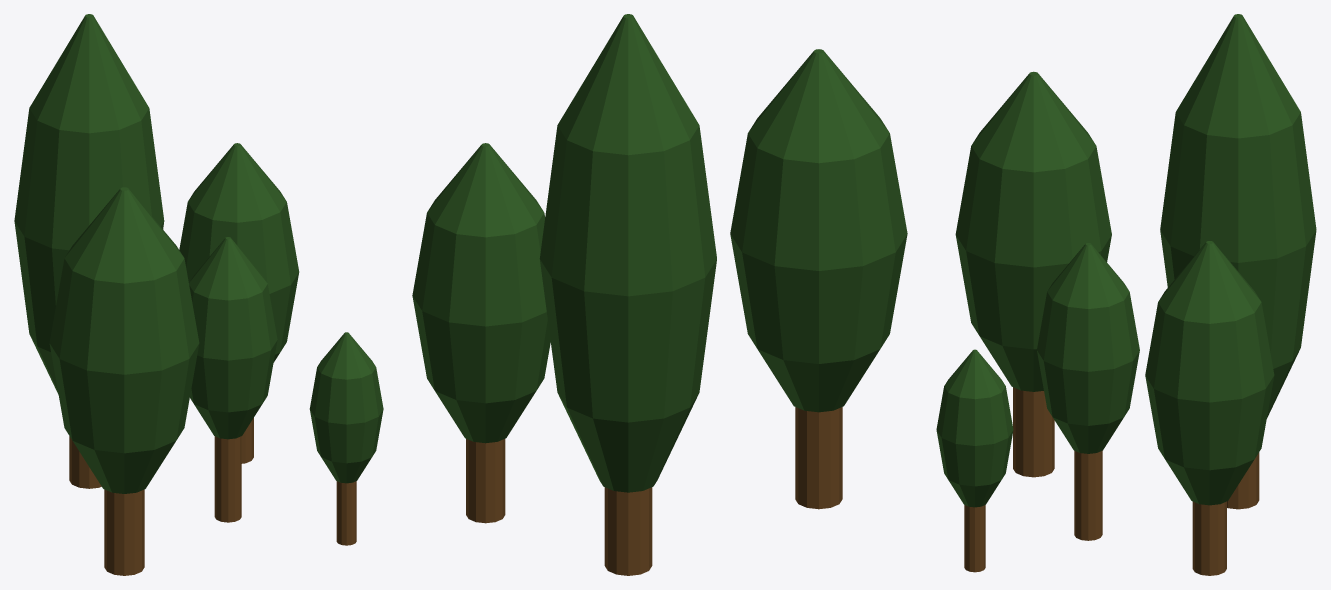
The model's file is Forest.glb.
The picture shows the model from 3 angles, left to right: view 1: azimuth 30°, elevation 25°; view 2: azimuth 150°, elevation 25°; view 3: azimuth 270°, elevation 25°; orthographic projection. The views are drawn at different scales.
Parts seen in each view (by area): view 1: Cylinder.014; view 2: Cylinder.014; view 3: Cylinder.014.
Part boxes in pixels (<box>): Cylinder.014: <box>14,14,383,575</box>; Cylinder.014: <box>412,14,907,575</box>; Cylinder.014: <box>936,14,1316,575</box>.
Bounding box in the file's own units: 1.62 × 2.29 × 1.62.
